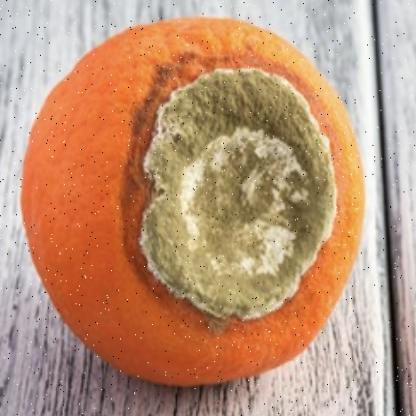rotten: (18, 16, 366, 388)
